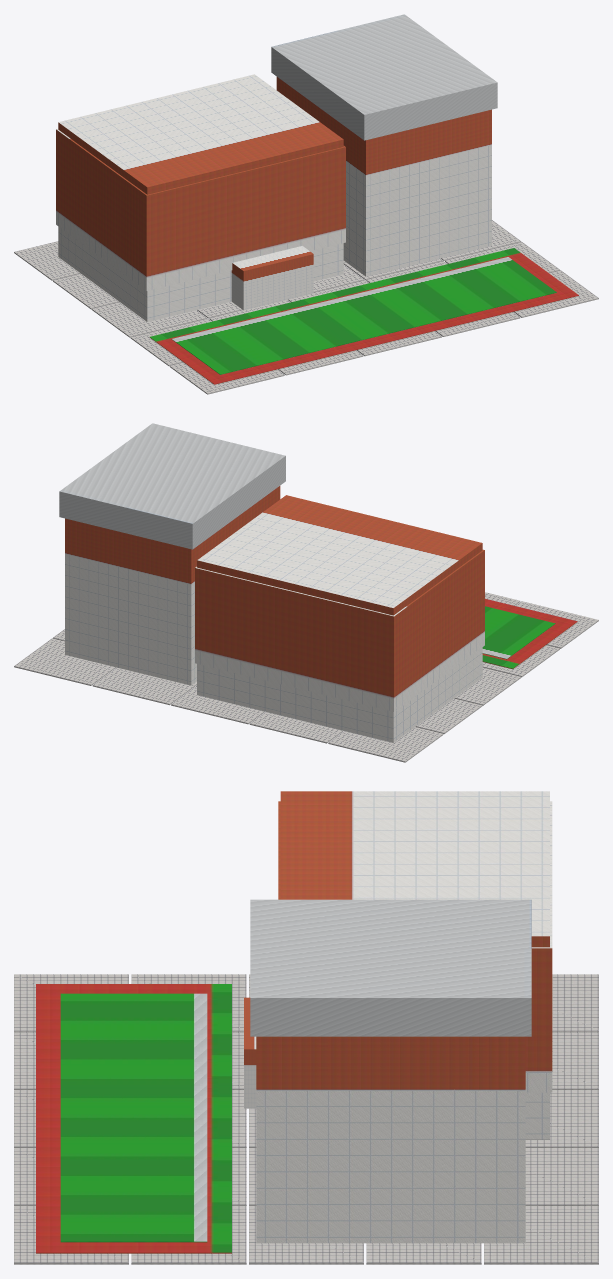
The picture shows the model from 3 angles, top to bottom: view 1: azimuth 30°, elevation 25°; view 2: azimuth 150°, elevation 25°; view 3: azimuth 270°, elevation 25°; orthographic projection. The views are drawn at different scales.
Visible parts, largest first — view 1: 28185_B20_Chadwick_International; view 2: 28185_B20_Chadwick_International; view 3: 28185_B20_Chadwick_International.
Part boxes in pixels (x1,y1,x2,y2): 28185_B20_Chadwick_International: (14, 14, 598, 394); 28185_B20_Chadwick_International: (14, 423, 598, 762); 28185_B20_Chadwick_International: (14, 791, 598, 1264).
Size of the model in its own units: 55.8 by 22.5 by 47.8.
1 material, 1 textured.
